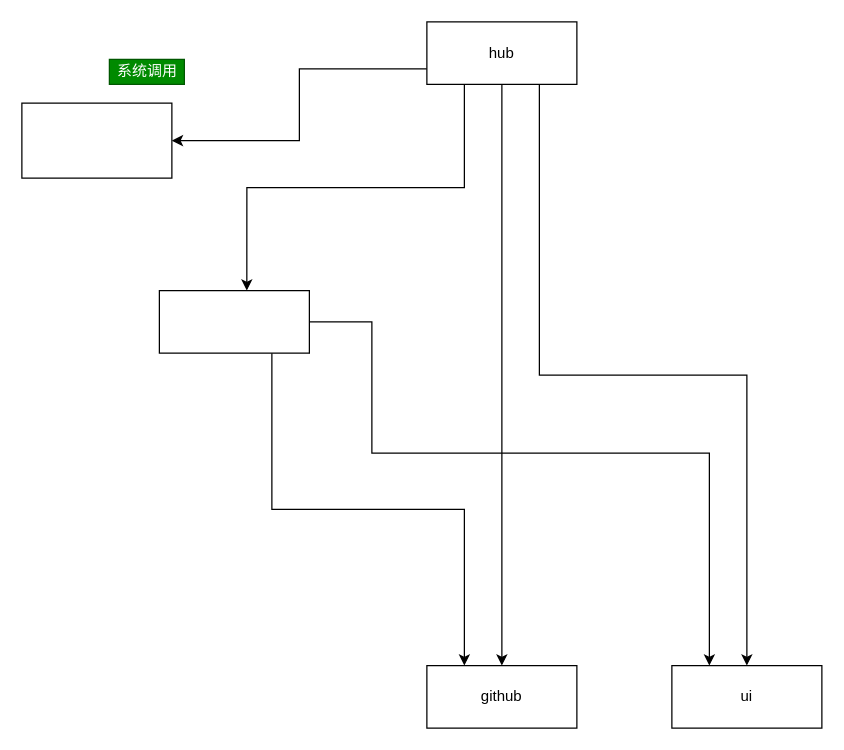
This 844x750 diagram has some shape labels left out. Each missing label, with the centre of its shape:
"commands" goes at [233,321].
"os os/exec syscall" goes at [96,140].
